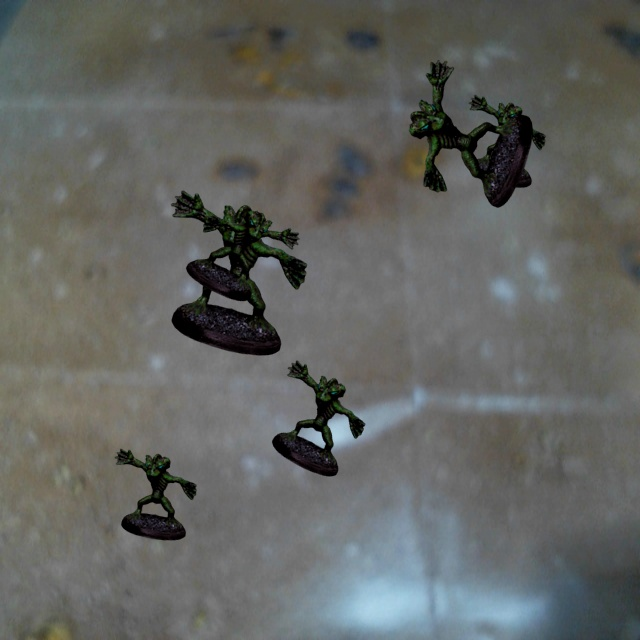pieza_juego: (171, 190, 306, 355), (409, 60, 532, 207), (272, 360, 365, 476), (186, 210, 299, 300), (115, 449, 196, 540), (469, 95, 545, 187)
